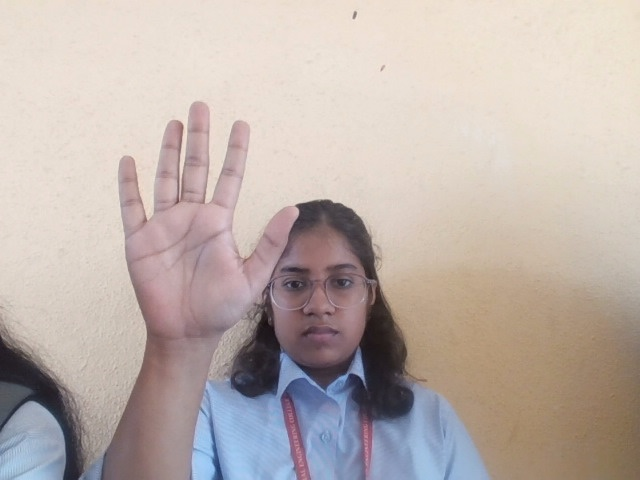Hello: (113, 99, 303, 348)
